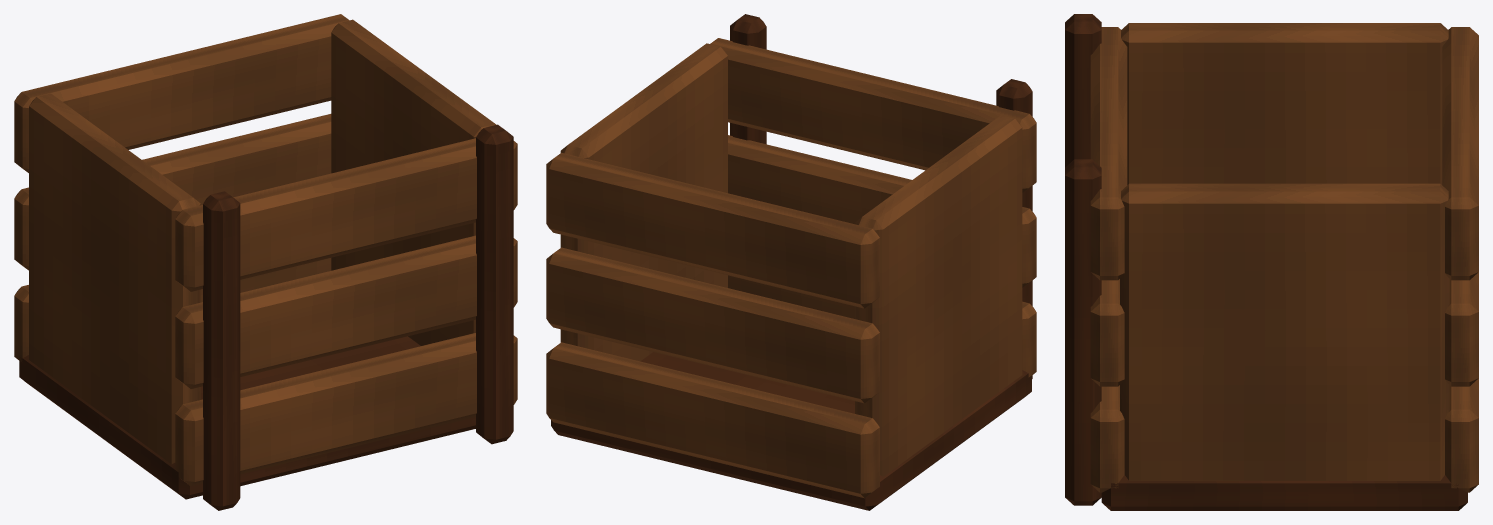
File: WoodCrate.glb
3 renders of one model, left to right at view 1: azimuth 30°, elevation 25°; view 2: azimuth 150°, elevation 25°; view 3: azimuth 270°, elevation 25°, orthographic. The views are drawn at different scales.
Visible parts, largest first — view 1: Side-0.52, FrontSlat2, FrontSlat1, FrontSlat0, BackSlat2, Side0.52, FrontBrace-0.47, FrontBrace0.47, BackSlat1, CrateBottom, BackSlat0; view 2: Side-0.52, BackSlat2, BackSlat1, BackSlat0, FrontSlat2, Side0.52, CrateBottom, FrontSlat1, FrontSlat0, FrontBrace0.47, FrontBrace-0.47; view 3: Side0.52, Side-0.52, CrateBottom, FrontBrace0.47, BackSlat2, FrontSlat2, FrontBrace-0.47, BackSlat1, BackSlat0, FrontSlat1, FrontSlat0.
Part boxes in pixels (x1,y1,x2,y2): Side-0.52: (29, 93, 200, 464); FrontSlat2: (175, 138, 517, 291); FrontSlat1: (175, 235, 517, 388); FrontSlat0: (175, 333, 517, 486); BackSlat2: (14, 14, 349, 172); Side0.52: (331, 19, 496, 345); FrontBrace-0.47: (203, 191, 240, 510); FrontBrace0.47: (476, 124, 513, 444); BackSlat1: (14, 114, 331, 270); CrateBottom: (19, 336, 475, 499); BackSlat0: (14, 258, 331, 362); Side-0.52: (855, 115, 1022, 476); BackSlat2: (546, 152, 879, 308); BackSlat1: (546, 247, 879, 403); BackSlat0: (546, 342, 879, 498); FrontSlat2: (710, 38, 1036, 192); Side0.52: (560, 43, 727, 361); CrateBottom: (551, 352, 1031, 510); FrontSlat1: (728, 135, 1036, 287); FrontSlat0: (728, 275, 1036, 377); FrontBrace0.47: (730, 14, 766, 144); FrontBrace-0.47: (996, 79, 1032, 378); Side0.52: (1120, 183, 1449, 480); Side-0.52: (1121, 23, 1448, 184); CrateBottom: (1101, 475, 1467, 510); FrontBrace0.47: (1065, 159, 1101, 505); BackSlat2: (1442, 27, 1478, 280); FrontSlat2: (1090, 27, 1127, 280); FrontBrace-0.47: (1065, 14, 1101, 167); BackSlat1: (1445, 272, 1478, 386); BackSlat0: (1445, 378, 1478, 492); FrontSlat1: (1090, 279, 1124, 386); FrontSlat0: (1090, 385, 1124, 492).
Bounding box in the file's own units: 1.15 × 1.02 × 1.13.
Materials: 2 (2 with a texture image).
